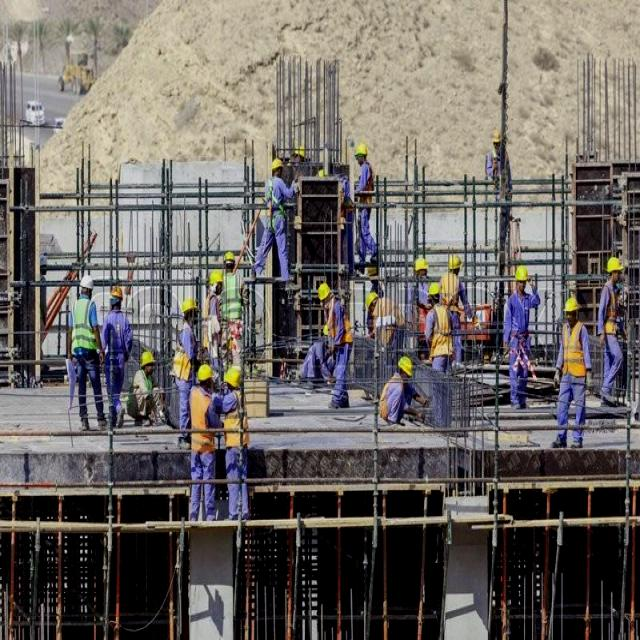head_helmet: (225, 368, 246, 392), (315, 281, 337, 300), (562, 294, 580, 315), (198, 364, 215, 381), (515, 264, 532, 281), (397, 356, 413, 374), (182, 297, 200, 312), (414, 254, 429, 272), (447, 252, 462, 270), (604, 256, 622, 271), (428, 280, 442, 299), (225, 244, 238, 264), (355, 142, 371, 158), (491, 127, 506, 144), (140, 351, 156, 365), (78, 275, 95, 288), (367, 292, 379, 308), (271, 156, 285, 169), (111, 284, 123, 298), (212, 268, 222, 284), (322, 326, 332, 336), (297, 145, 306, 156), (318, 168, 329, 177)
person: (555, 288, 593, 453), (316, 276, 358, 416), (502, 262, 540, 411), (596, 248, 632, 404), (222, 370, 255, 520), (191, 363, 221, 522), (70, 274, 100, 420), (350, 139, 382, 264), (261, 152, 290, 272), (385, 351, 424, 432), (445, 248, 473, 356), (105, 290, 129, 414), (425, 283, 455, 381), (222, 254, 250, 350), (364, 283, 406, 340), (333, 165, 352, 270), (487, 131, 515, 200), (134, 352, 162, 420), (294, 344, 331, 392), (204, 280, 222, 361), (180, 304, 190, 433), (297, 133, 313, 168)
vest: (221, 390, 254, 447), (190, 384, 216, 453), (558, 325, 589, 376), (70, 300, 97, 352), (430, 304, 455, 353), (222, 276, 245, 324), (603, 280, 622, 337), (328, 309, 354, 347), (356, 168, 377, 205), (177, 328, 193, 376), (205, 299, 221, 346), (373, 305, 400, 331), (490, 151, 510, 180), (445, 272, 464, 302), (382, 376, 396, 415)
